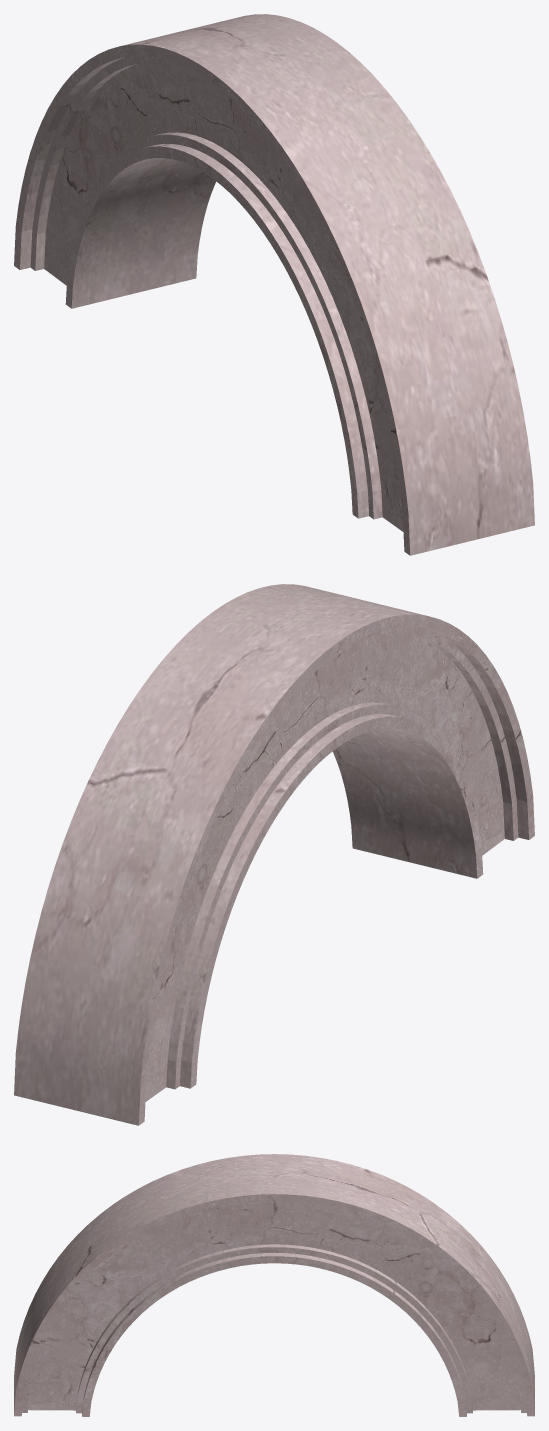
File: pasted__marble_tiles_pink_10.fbx
3 renders of one model, top to bottom at view 1: azimuth 30°, elevation 25°; view 2: azimuth 150°, elevation 25°; view 3: azimuth 270°, elevation 25°, orthographic. The views are drawn at different scales.
Parts seen in each view (by area): view 1: pasted__marble_tiles_pink_10; view 2: pasted__marble_tiles_pink_10; view 3: pasted__marble_tiles_pink_10.
Boxes of the visible parts, x1,y1,x2,y2 form: pasted__marble_tiles_pink_10: (14,14,534,555); pasted__marble_tiles_pink_10: (14,584,534,1125); pasted__marble_tiles_pink_10: (14,1154,534,1416).
Bounding box in the file's own units: 34.01 × 187 × 88.28.
